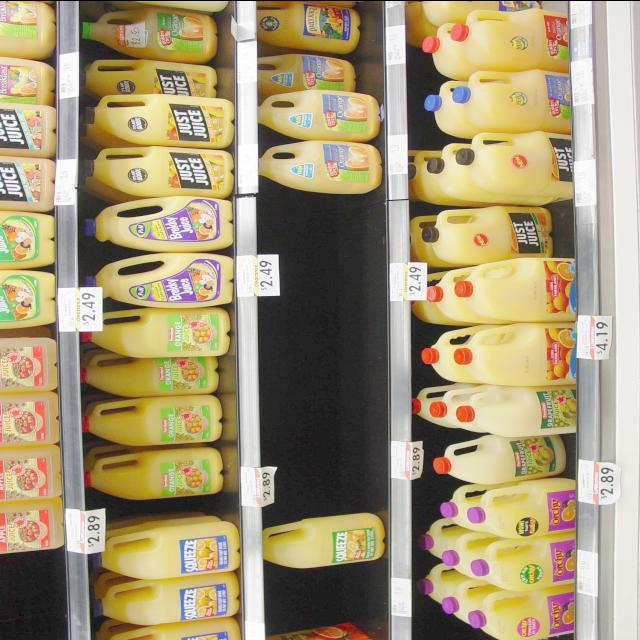empty_space: (287, 211, 377, 501), (4, 563, 56, 639), (282, 571, 366, 617)
